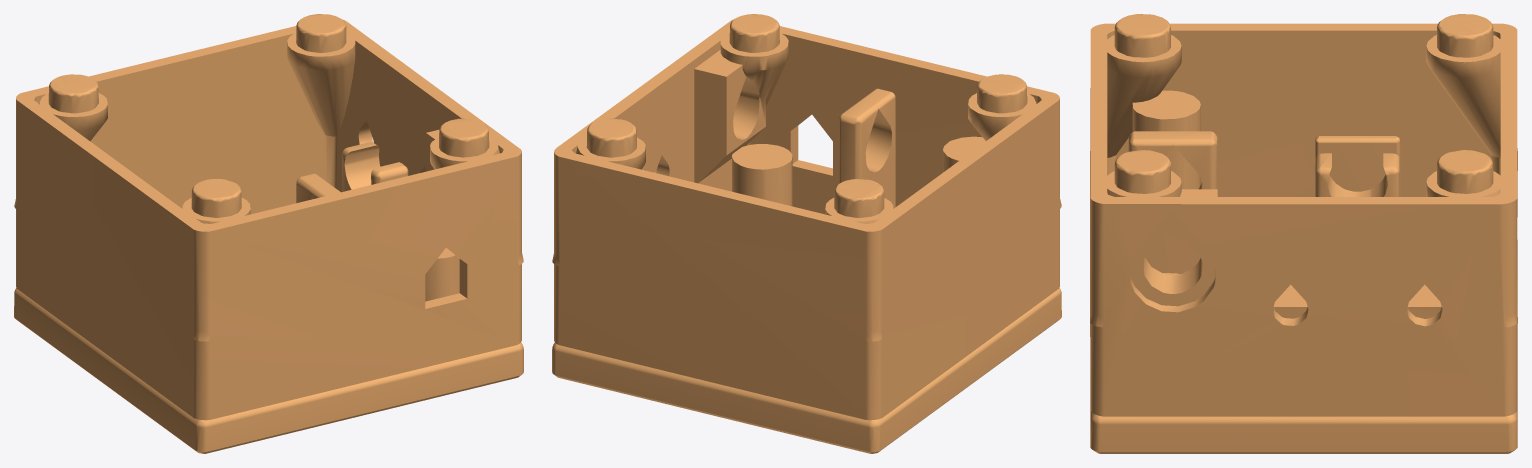
Rendered from mom-band-core-tray.glb.
3 views of the same model, side by side, from view 1: azimuth 30°, elevation 25°; view 2: azimuth 150°, elevation 25°; view 3: azimuth 270°, elevation 25° (orthographic). The views are drawn at different scales.
Visible parts, largest first — view 1: mom-band-core-tray; view 2: mom-band-core-tray; view 3: mom-band-core-tray.
Boxes of the visible parts, left/top/right/bottom form: mom-band-core-tray: left=14, top=14, right=523, bottom=453; mom-band-core-tray: left=552, top=14, right=1061, bottom=453; mom-band-core-tray: left=1090, top=14, right=1517, bottom=453.
Bounding box in the file's own units: 0.0498 × 0.035 × 0.0498.
